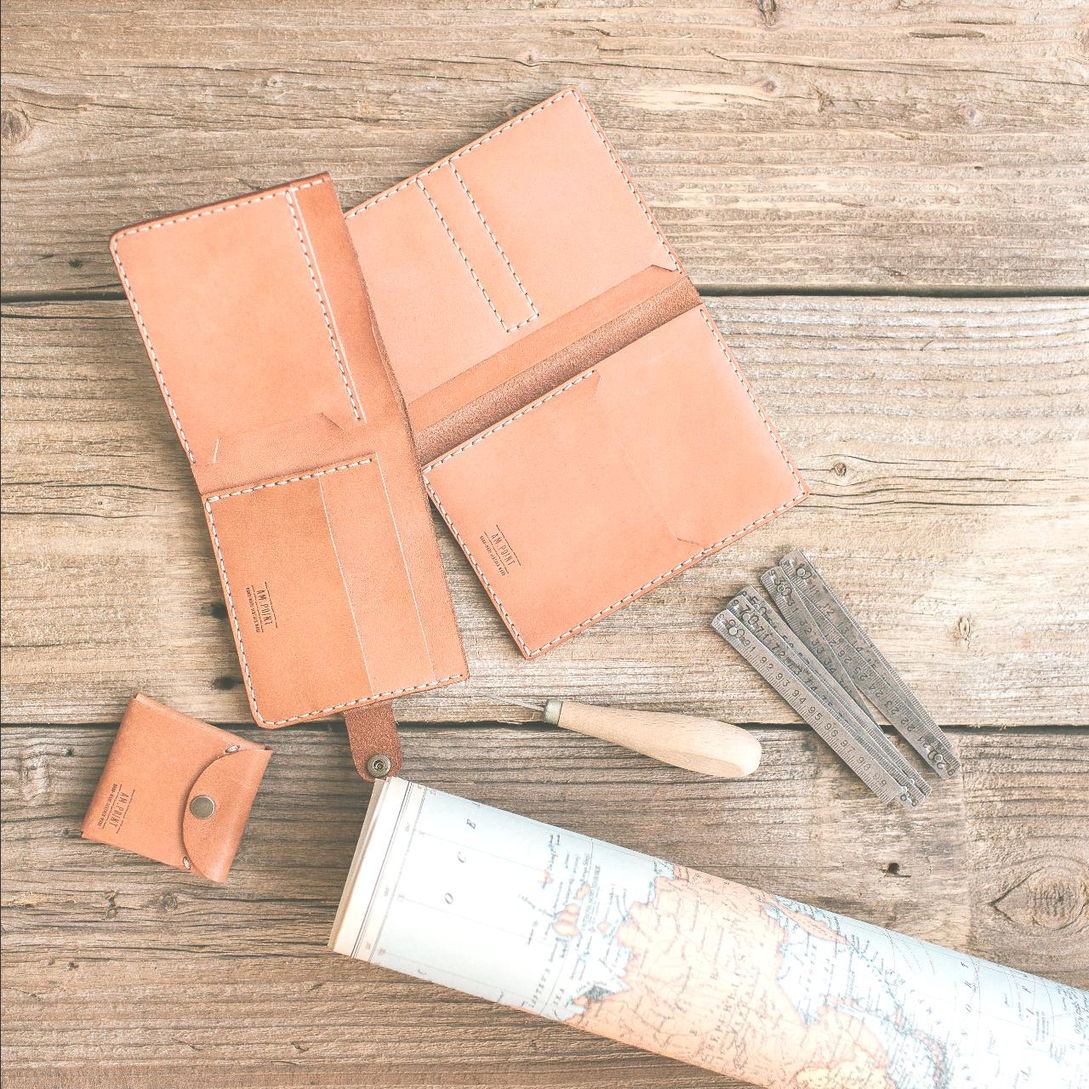wallet: (410, 105, 759, 631), (121, 147, 408, 785)
